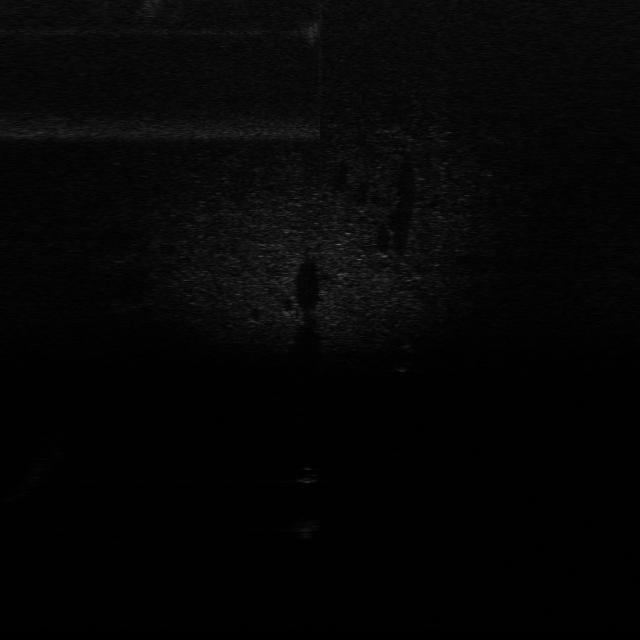ball: (294, 466, 324, 486)
square cage: (286, 518, 334, 541)
tyre: (390, 344, 420, 373)
